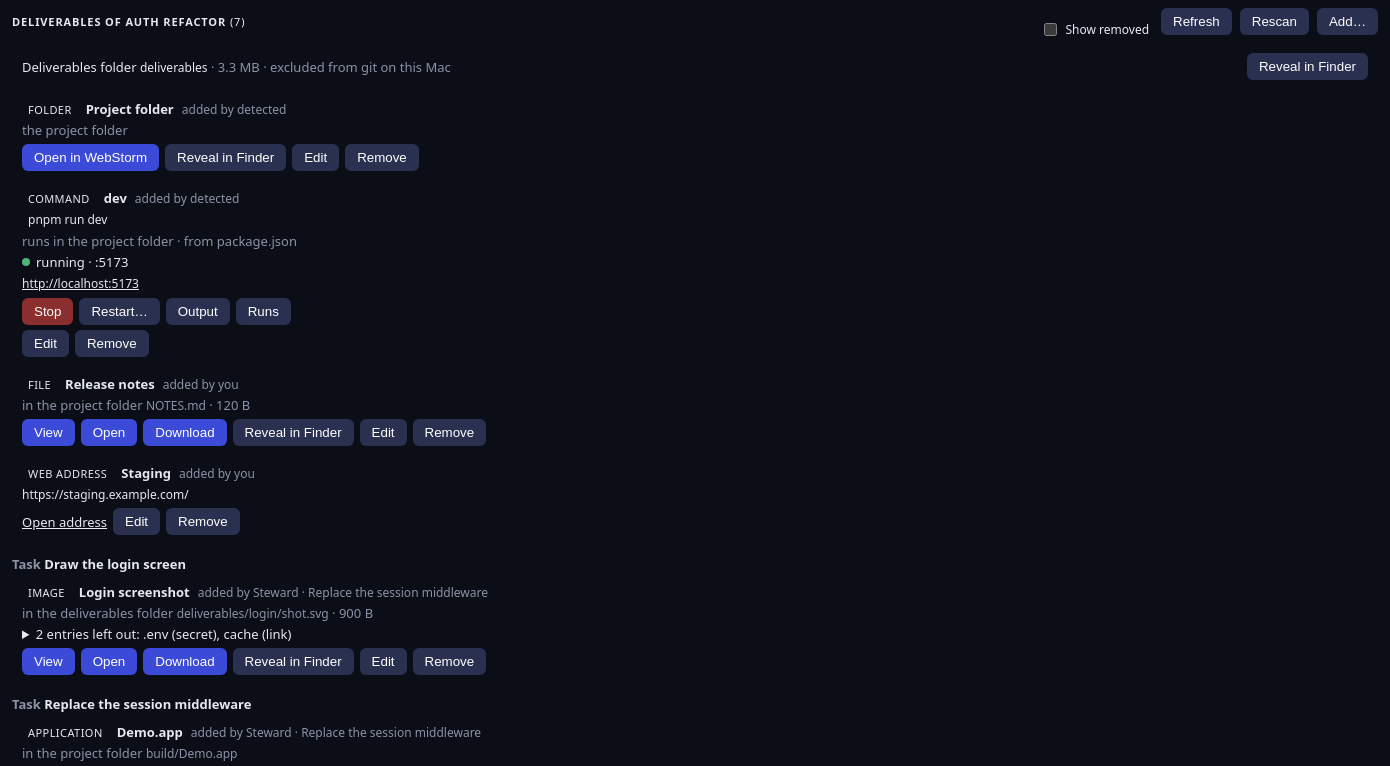
actions per kind on the Mac (decisions 125, 127, 128) › shows a refusal on the row (the IDE removed, a file swapped)
Click the button "Open in WebStorm". click: (91, 158)
box: [22,144,159,171]
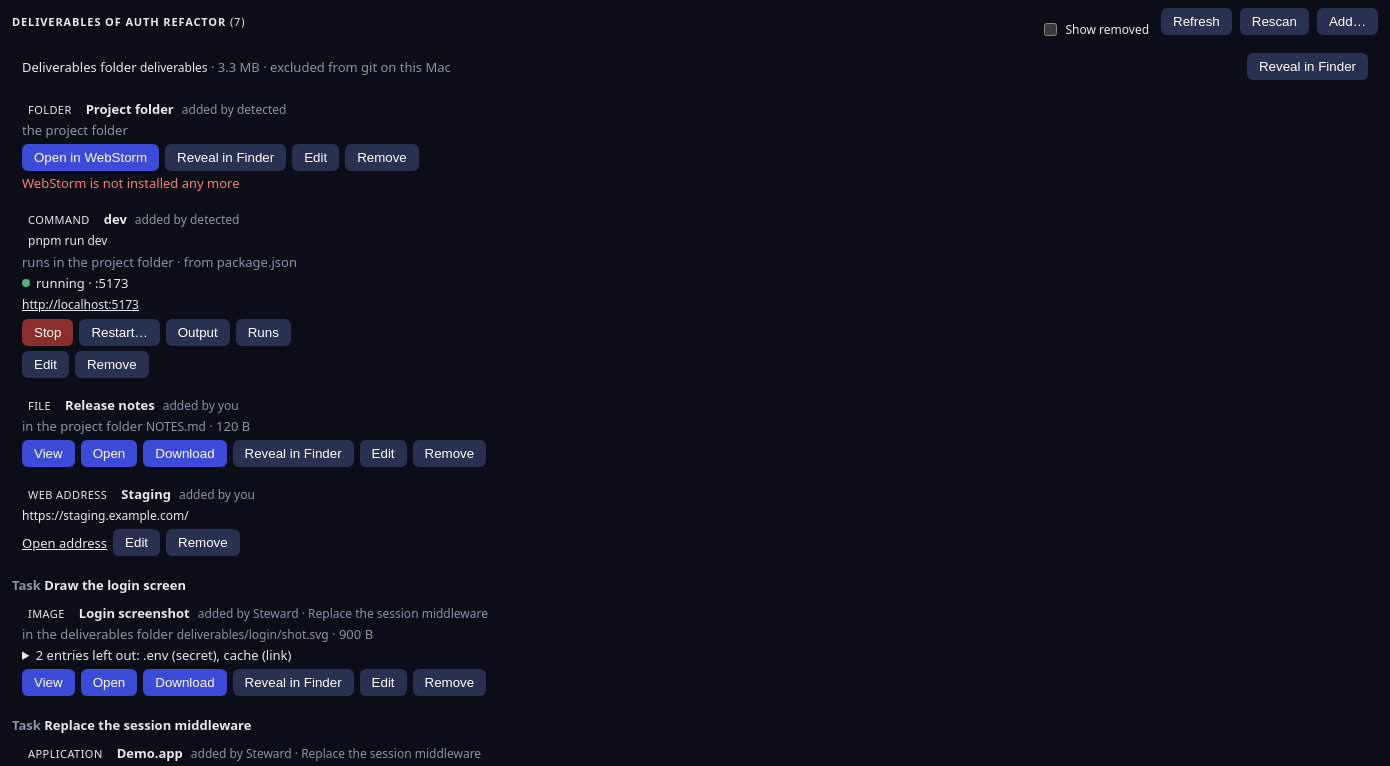
Check: the message reads "WebStorm is not installed any more", box [22,174,240,192]
